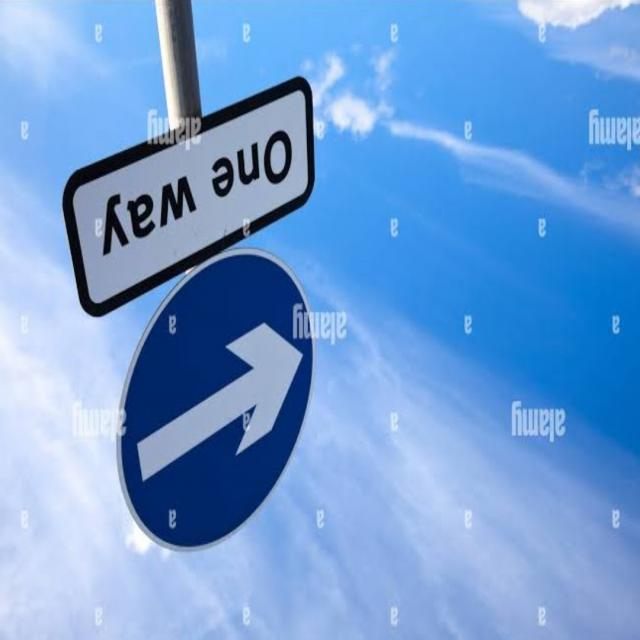Turn Right: (111, 251, 322, 567)
